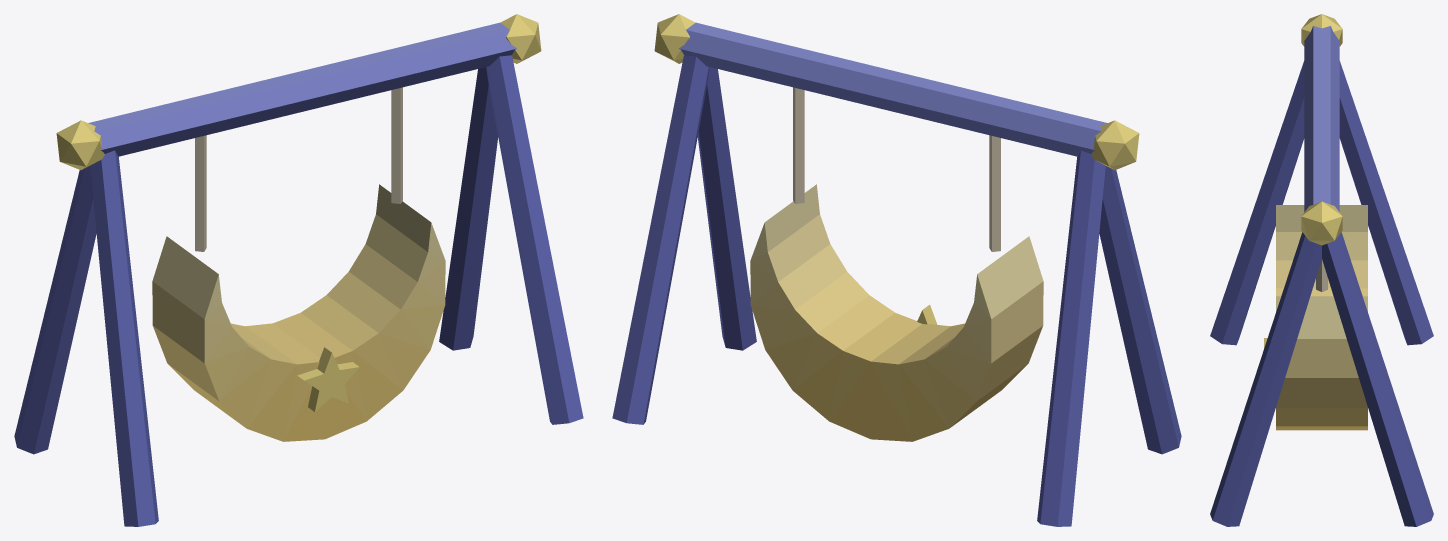
Rendered from habitat_prop_lunara.fbx.
3 views of the same model, side by side, from view 1: azimuth 30°, elevation 25°; view 2: azimuth 150°, elevation 25°; view 3: azimuth 270°, elevation 25° (orthographic). The views are drawn at different scales.
Visible parts, largest first — view 1: habitat_prop_lunara; view 2: habitat_prop_lunara; view 3: habitat_prop_lunara.
Boxes of the visible parts, x1=… form: habitat_prop_lunara: x1=14, y1=14, x2=583, y2=526; habitat_prop_lunara: x1=612, y1=14, x2=1181, y2=526; habitat_prop_lunara: x1=1210, y1=14, x2=1433, y2=526.
Size of the model in its own units: 1.8 by 1.32 by 0.8281.
